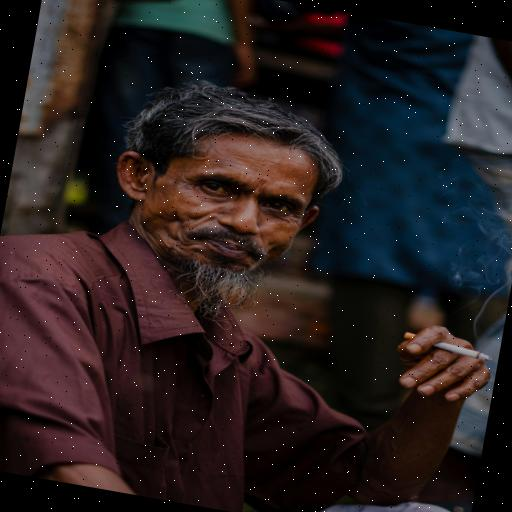terdeteksi pegang rokok: (378, 298, 502, 430)
